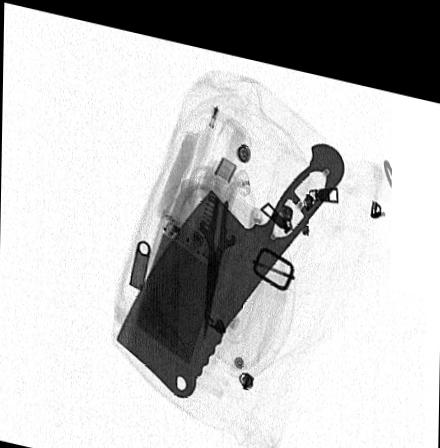Knife: (114, 128, 345, 389)
Powerbank: (127, 200, 230, 370)
Scissors: (188, 149, 257, 339)
